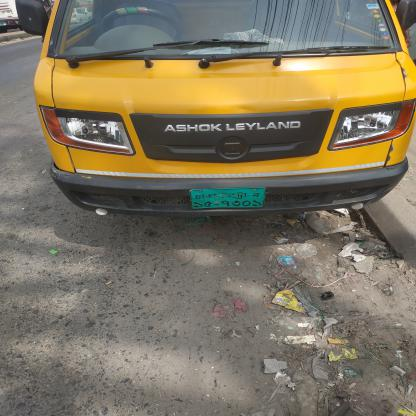license_plate: (189, 187, 269, 211)
